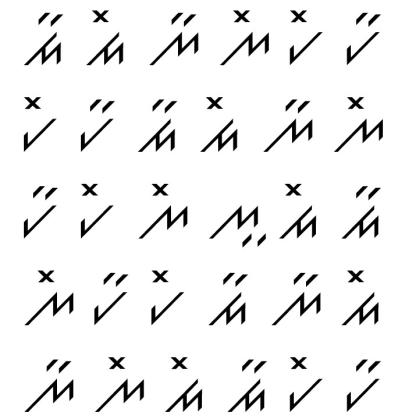dah: (20, 7, 71, 71), (220, 351, 269, 415), (338, 178, 386, 243), (207, 271, 257, 332), (132, 95, 178, 160)
do: (335, 266, 385, 334), (191, 91, 242, 157), (83, 4, 131, 72), (160, 348, 206, 416), (275, 178, 320, 244)
nah: (207, 187, 270, 252)
nan: (144, 2, 203, 72), (17, 350, 78, 416), (257, 91, 317, 156), (269, 264, 323, 328)
no: (18, 262, 81, 330), (133, 177, 192, 242), (92, 351, 152, 414), (217, 5, 274, 71), (332, 89, 386, 158)
pan: (335, 354, 385, 416), (15, 175, 61, 240), (73, 90, 119, 154), (339, 7, 385, 66), (90, 268, 132, 326)
po: (278, 2, 325, 68), (71, 178, 119, 239), (142, 265, 188, 328), (280, 350, 326, 413), (15, 88, 58, 152)
